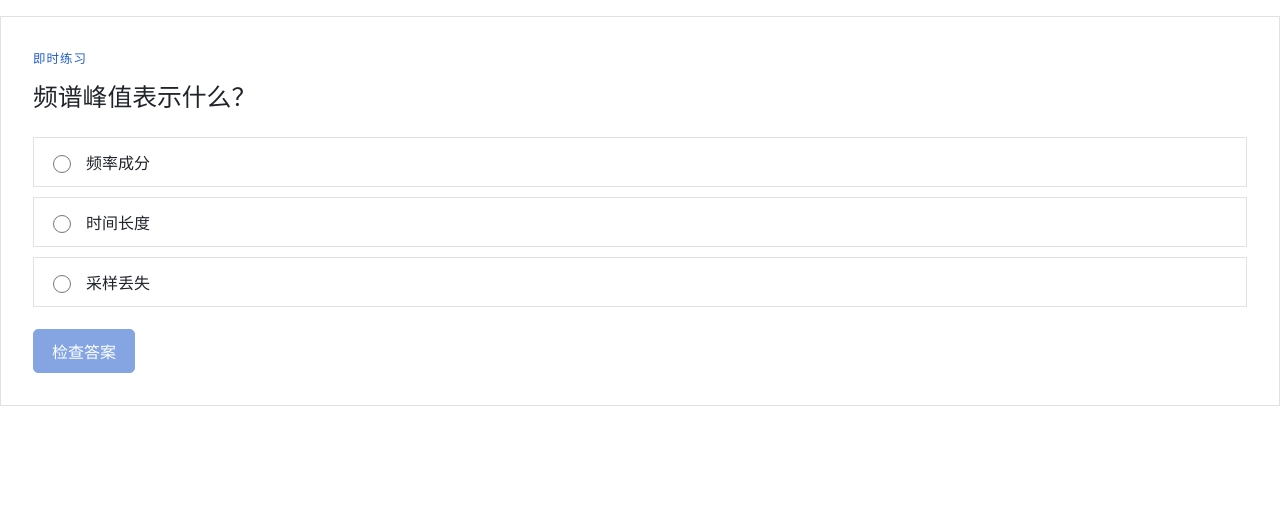
Test: Quiz › 答对后解释原因并完成章节
The width and height of the screenshot is (1280, 527).
Step 1. Click the radio button labelled "频率成分" → {"x": 62, "y": 164}, box [53, 154, 71, 172]
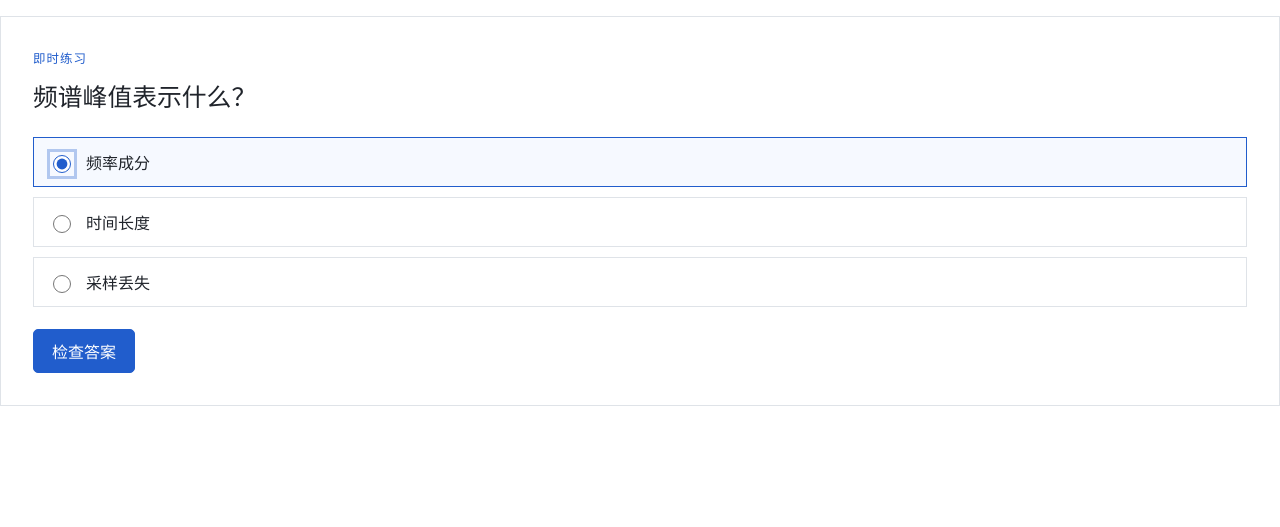
Step 2. Click the button "检查答案" → {"x": 84, "y": 351}, box [33, 329, 135, 373]
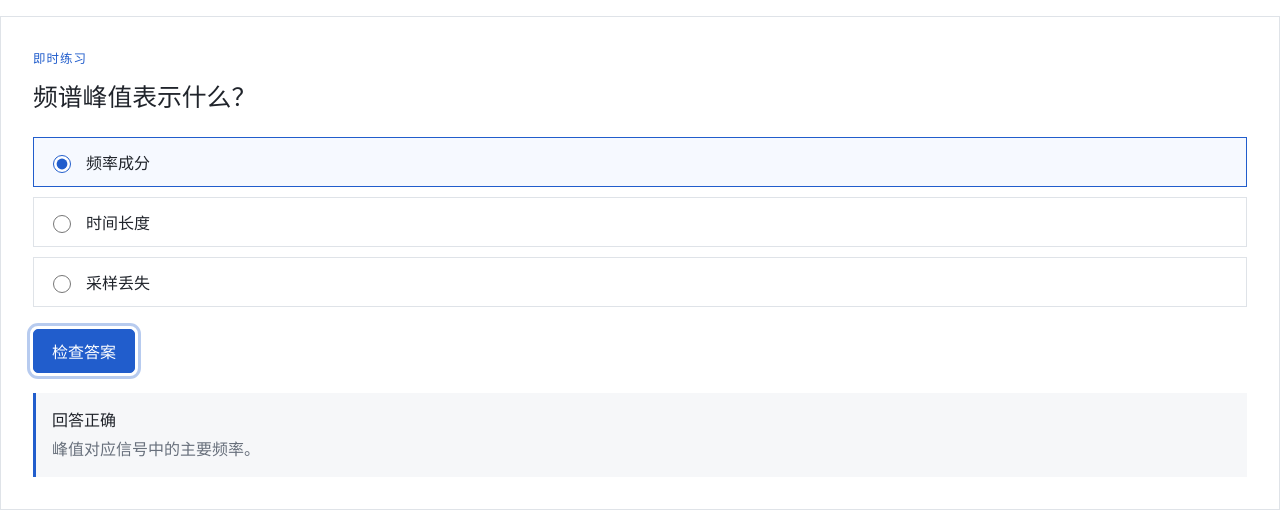
Now the text "回答正确" is shown, box [52, 409, 116, 431]
Now the text "峰值对应信号中的主要频率。" is shown, box [52, 438, 260, 460]
